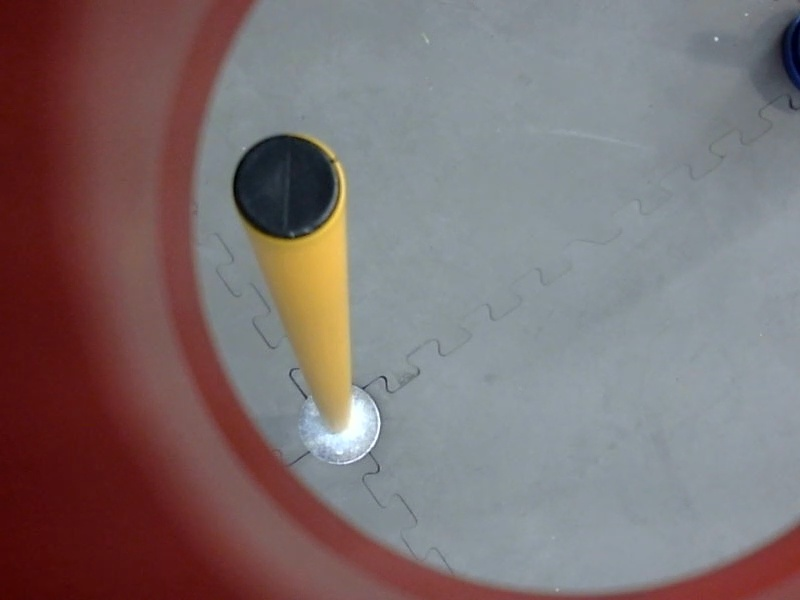tip: (225, 125, 353, 248)
